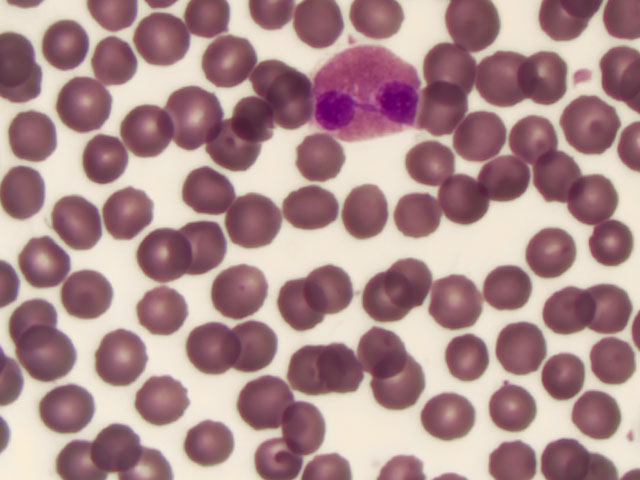Platelets: (575, 63, 591, 87)
RBC: (44, 21, 90, 69), (94, 36, 140, 84), (60, 82, 106, 130), (10, 111, 56, 159), (1, 167, 47, 215), (81, 134, 127, 182), (116, 107, 162, 155), (170, 90, 216, 138), (138, 16, 184, 64), (205, 37, 251, 85), (250, 49, 296, 97), (271, 88, 317, 136), (232, 94, 278, 142), (209, 121, 255, 169), (187, 172, 233, 220), (229, 198, 275, 246), (287, 190, 333, 238), (298, 136, 344, 184), (343, 187, 389, 235), (389, 191, 435, 239), (407, 141, 453, 189), (439, 176, 485, 224), (476, 160, 522, 208), (462, 117, 508, 165), (426, 87, 472, 135), (429, 42, 475, 90), (448, 5, 494, 53), (487, 56, 533, 104), (515, 52, 561, 100), (516, 114, 562, 162), (533, 155, 579, 203), (576, 173, 622, 221), (569, 101, 615, 149), (594, 47, 640, 95), (353, 1, 399, 49), (586, 215, 632, 263), (529, 226, 575, 274), (479, 261, 525, 309), (437, 278, 483, 326), (390, 254, 436, 302), (371, 271, 417, 319), (308, 266, 354, 314), (287, 278, 333, 326), (218, 265, 264, 313), (184, 223, 230, 271), (137, 227, 183, 275), (109, 188, 155, 236), (52, 197, 98, 245), (19, 237, 65, 285), (65, 270, 111, 318), (7, 296, 53, 344), (24, 330, 70, 378), (108, 336, 154, 384), (50, 379, 96, 427), (103, 427, 149, 475), (139, 378, 185, 426), (193, 325, 239, 373), (235, 318, 281, 366), (139, 286, 185, 334), (287, 348, 333, 396), (326, 348, 372, 396), (362, 326, 408, 374), (373, 357, 419, 405), (455, 332, 501, 380), (492, 318, 538, 366), (547, 288, 593, 336), (587, 283, 633, 331), (591, 336, 637, 384), (568, 387, 614, 435), (536, 352, 582, 400), (488, 382, 534, 430), (483, 432, 529, 480), (429, 399, 475, 447), (272, 399, 318, 447), (260, 431, 306, 479), (243, 381, 289, 429), (190, 416, 236, 464), (52, 432, 98, 480), (540, 4, 586, 52), (188, 1, 234, 48), (294, 1, 340, 48)
WBC: (309, 40, 424, 147)
